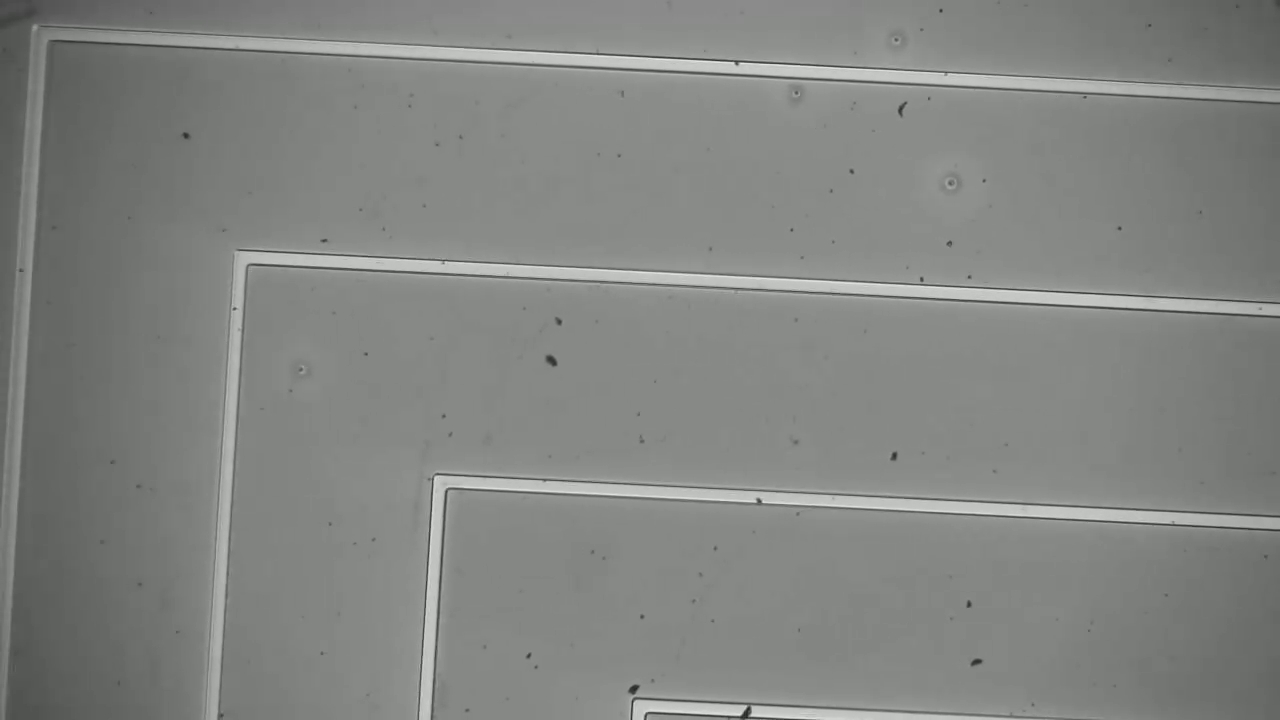stains_enbedded: (736, 695, 761, 720)
